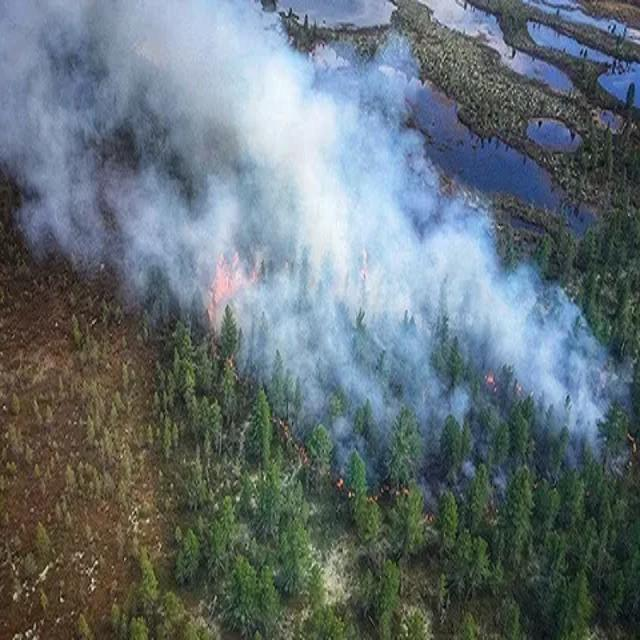Smoke: (2, 2, 636, 462)
